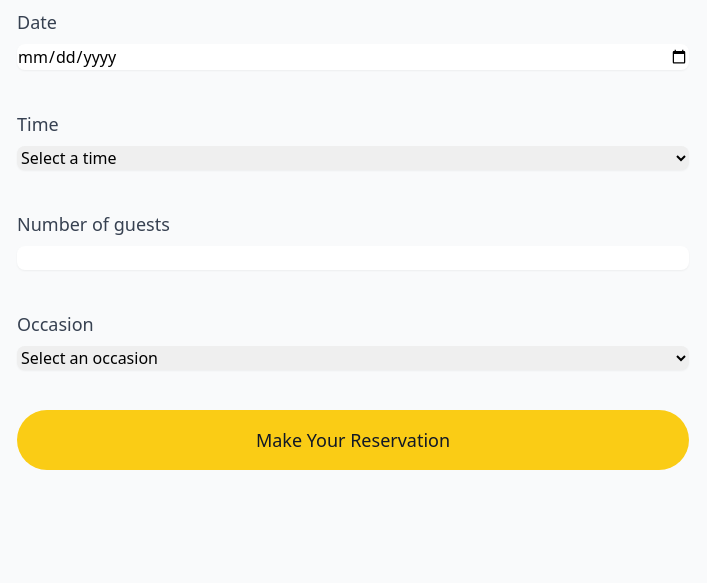
Scenario: BookingForm › shows validation errors when form is submitted empty
Click the button "Make Your Reservation" at x=353, y=440, box left=17, top=410, right=689, bottom=470
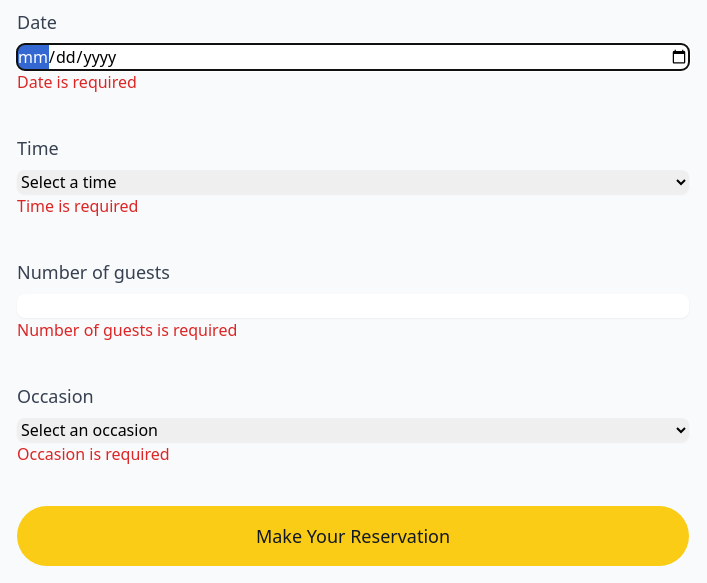
Expected: the text "Date is required" is shown, left=17, top=71, right=137, bottom=93
Expected: the text "Time is required" is shown, left=17, top=195, right=138, bottom=217
Expected: the text "Number of guests is required" is shown, left=17, top=319, right=237, bottom=341
